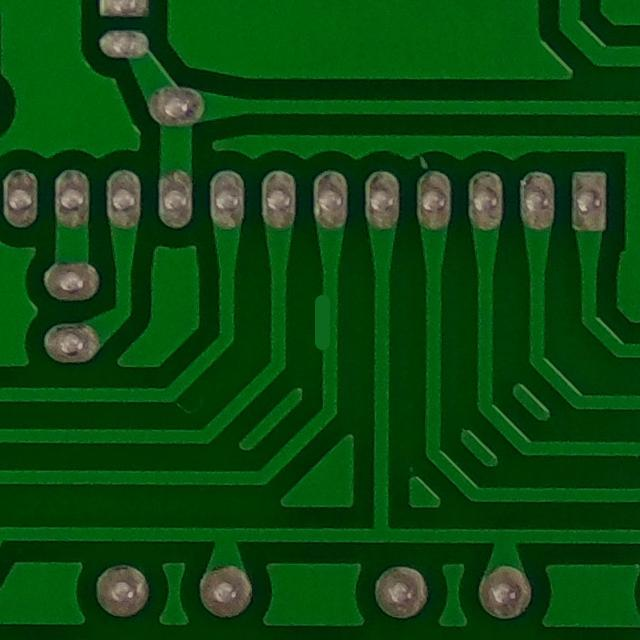spur: (295, 280, 346, 360)
